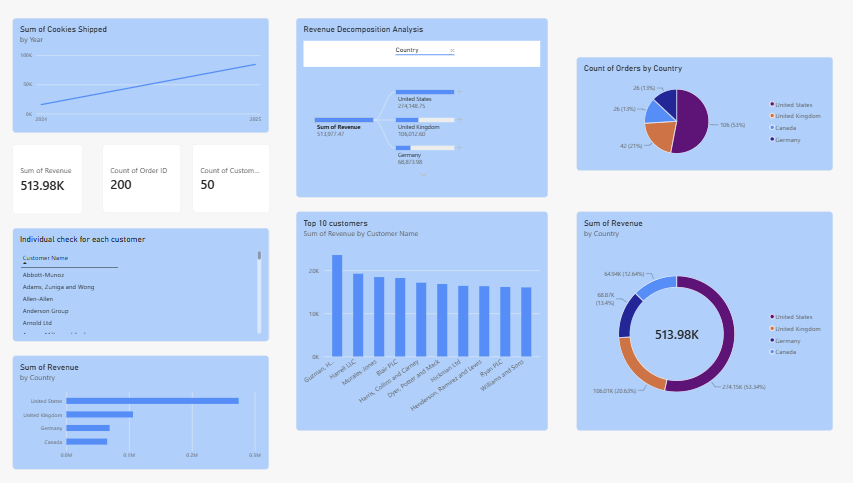

Layout of this report page (visuals, bound fields, positions):
{"tool":"powerbi","page":{"name":"Page 1","canvas":[1920,1080],"ordinal":0},"visuals":[{"type":"lineChart","fields":{"Category":["Orders.Order Date.Variation.Date Hierarchy.Year","Orders.Order Date.Variation.Date Hierarchy.Quarter","Orders.Order Date.Variation.Date Hierarchy.Month","Orders.Order Date.Variation.Date Hierarchy.Day"],"Y":["Sum(Orders.Cookies Shipped)"]},"box":[37.5,45,570,255],"z":0},{"type":"cardVisual","fields":{"Data":["Sum(Orders.Revenue)"]},"box":[37.5,327.5,156.2,156.2],"z":1000},{"type":"tableEx","title":"Individual check for each customer","fields":{"Values":["Customers.Customer Name"]},"box":[37.5,512.5,570,252],"z":2000},{"type":"cardVisual","fields":{"Data":["Count(Orders.Order ID)"]},"box":[235,327.5,174,152],"z":3000},{"type":"cardVisual","fields":{"Data":["Count(Customers.Customer ID)"]},"box":[435,325,172.9,152.9],"z":4000},{"type":"clusteredBarChart","fields":{"Category":["Customers.Country"],"Y":["Sum(Orders.Revenue)"]},"box":[37.5,795,570,253],"z":6000},{"type":"clusteredColumnChart","title":"Top 10 customers","fields":{"Category":["Customers.Customer Name"],"Y":["Sum(Orders.Revenue)"]},"box":[665,477.5,560,487.5],"z":7000},{"type":"pieChart","title":"Count of Orders by Country","fields":{"Category":["Customers.Country"],"Y":["CountNonNull(Orders.Order ID)"]},"box":[1290,132.5,570,252.5],"z":8000},{"type":"donutChart","fields":{"Category":["Customers.Country"],"Y":["Sum(Orders.Revenue)"]},"box":[1290,477.5,570,487.5],"z":9000},{"type":"decompositionTreeVisual","title":"Revenue Decomposition Analysis","fields":{"Analyze":["Sum(Orders.Revenue)"],"ExplainBy":["Customers.Country","Orders.Order Date.Variation.Date Hierarchy.Year","Customers.Customer Name"]},"box":[665,45,560,398.3],"z":9001}]}

Visuals, with their boxes in screenshot pixels (x1, y1, x2, y2), scaled from the page's 1920x1080 canvas onto the 853x483 screenshot:
lineChart - Orders.Order Date.Variation.Date Hierarchy.Year x Orders.Order Date.Variation.Date Hierarchy.Quarter: <box>17,20,270,134</box>
cardVisual - Sum(Orders.Revenue): <box>17,146,86,216</box>
"Individual check for each customer" tableEx: <box>17,229,270,342</box>
cardVisual - Count(Orders.Order ID): <box>104,146,182,214</box>
cardVisual - Count(Customers.Customer ID): <box>193,145,270,214</box>
clusteredBarChart - Customers.Country x Sum(Orders.Revenue): <box>17,356,270,469</box>
"Top 10 customers" clusteredColumnChart: <box>295,214,544,432</box>
"Count of Orders by Country" pieChart: <box>573,59,826,172</box>
donutChart - Customers.Country x Sum(Orders.Revenue): <box>573,214,826,432</box>
"Revenue Decomposition Analysis" decompositionTreeVisual: <box>295,20,544,198</box>
